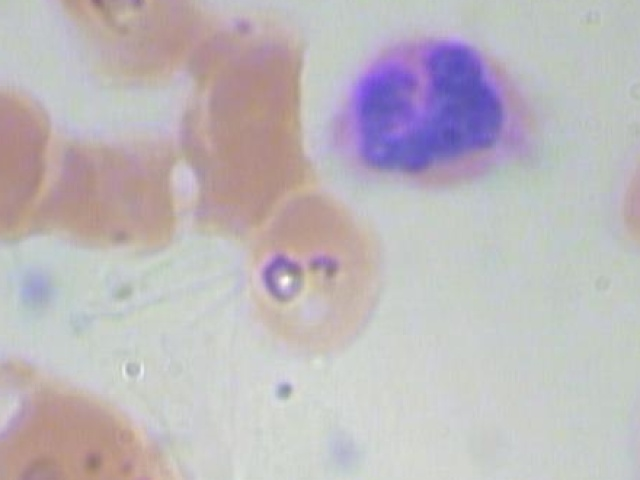Platelets: (316, 422, 374, 478), (7, 261, 66, 316)
RBC: (247, 179, 399, 369), (52, 113, 193, 264), (0, 351, 147, 480), (0, 65, 59, 255), (44, 0, 184, 73), (614, 124, 640, 267), (624, 345, 640, 480)
WBC: (308, 19, 558, 195)
